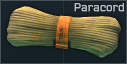Paracord: (0, 0, 127, 64)
